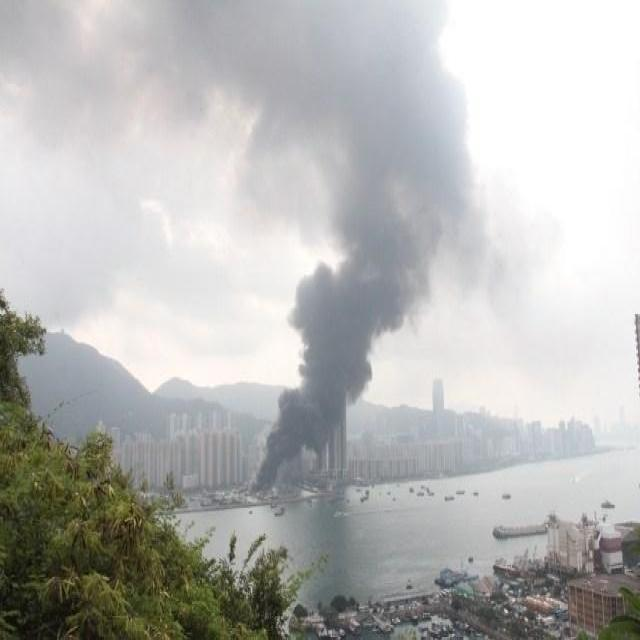Smoke: (1, 0, 570, 287), (232, 0, 485, 503)
